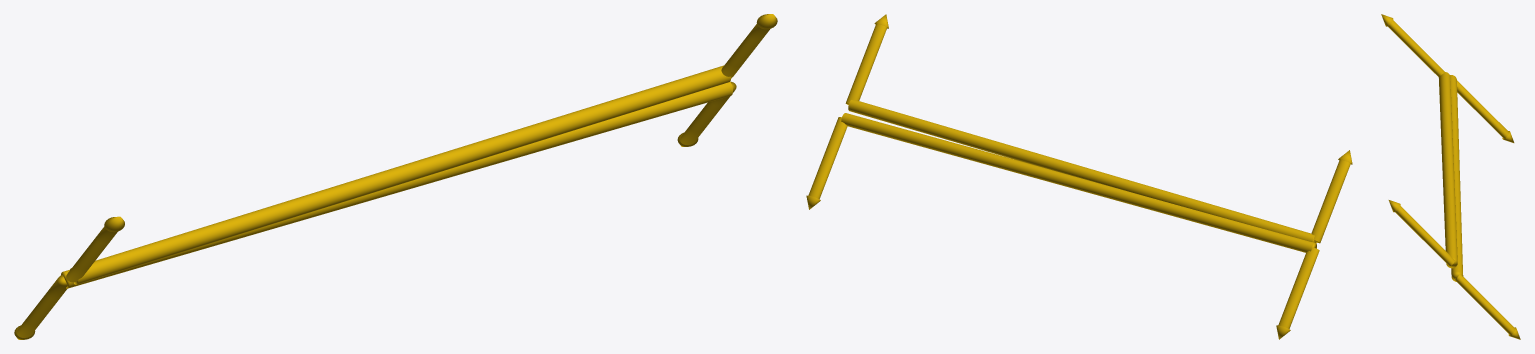
File: trajectories_mesh.obj
The picture shows the model from 3 angles, left to right: view 1: azimuth 30°, elevation 25°; view 2: azimuth 150°, elevation 25°; view 3: azimuth 270°, elevation 25°; orthographic projection. The views are drawn at different scales.
Bounding box in the file's own units: 0.357 × 0.1169 × 0.0958.
